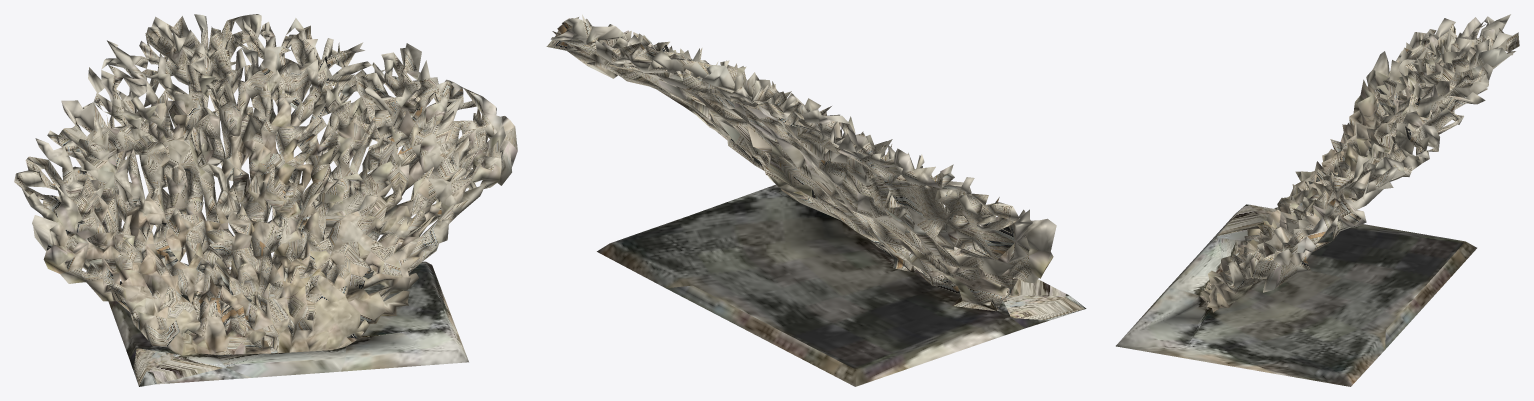
File: table-coral.glb
The picture shows the model from 3 angles, left to right: view 1: azimuth 30°, elevation 25°; view 2: azimuth 150°, elevation 25°; view 3: azimuth 270°, elevation 25°; orthographic projection. The views are drawn at different scales.
Size of the model in its own units: 1.98 by 1.04 by 1.47.
1 material, 1 textured.
